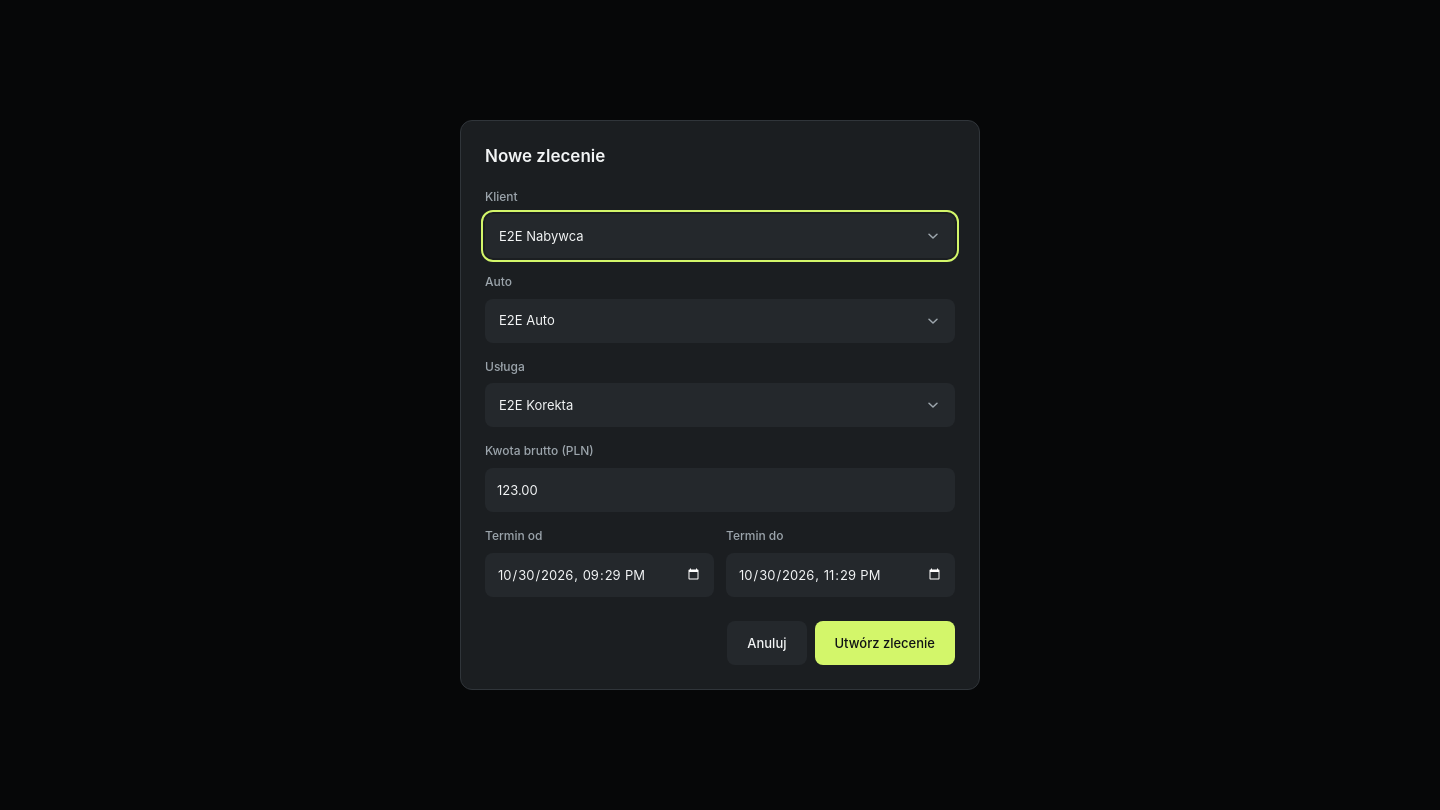
Test case: offers the client once an active service exists
This screenshot has width=1440, height=810.
expect the dropdown named "Klient" is shown: met, box [485,214,955,258]
Step 1. Click the dropdown named "Usługa" → (536, 405), box [485,383,955,427]
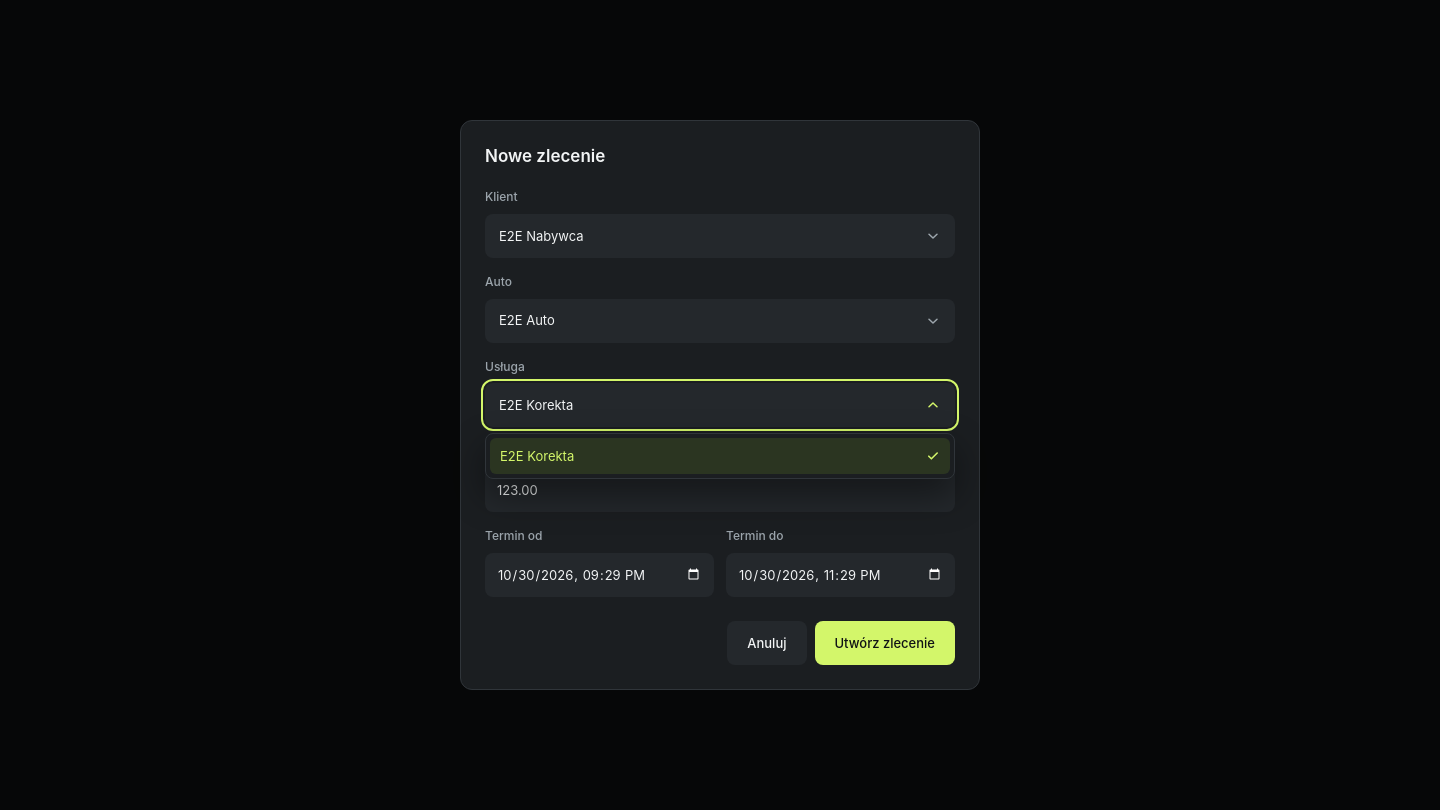
expect the option "E2E Korekta" is shown: met, box [490,438,950,474]
